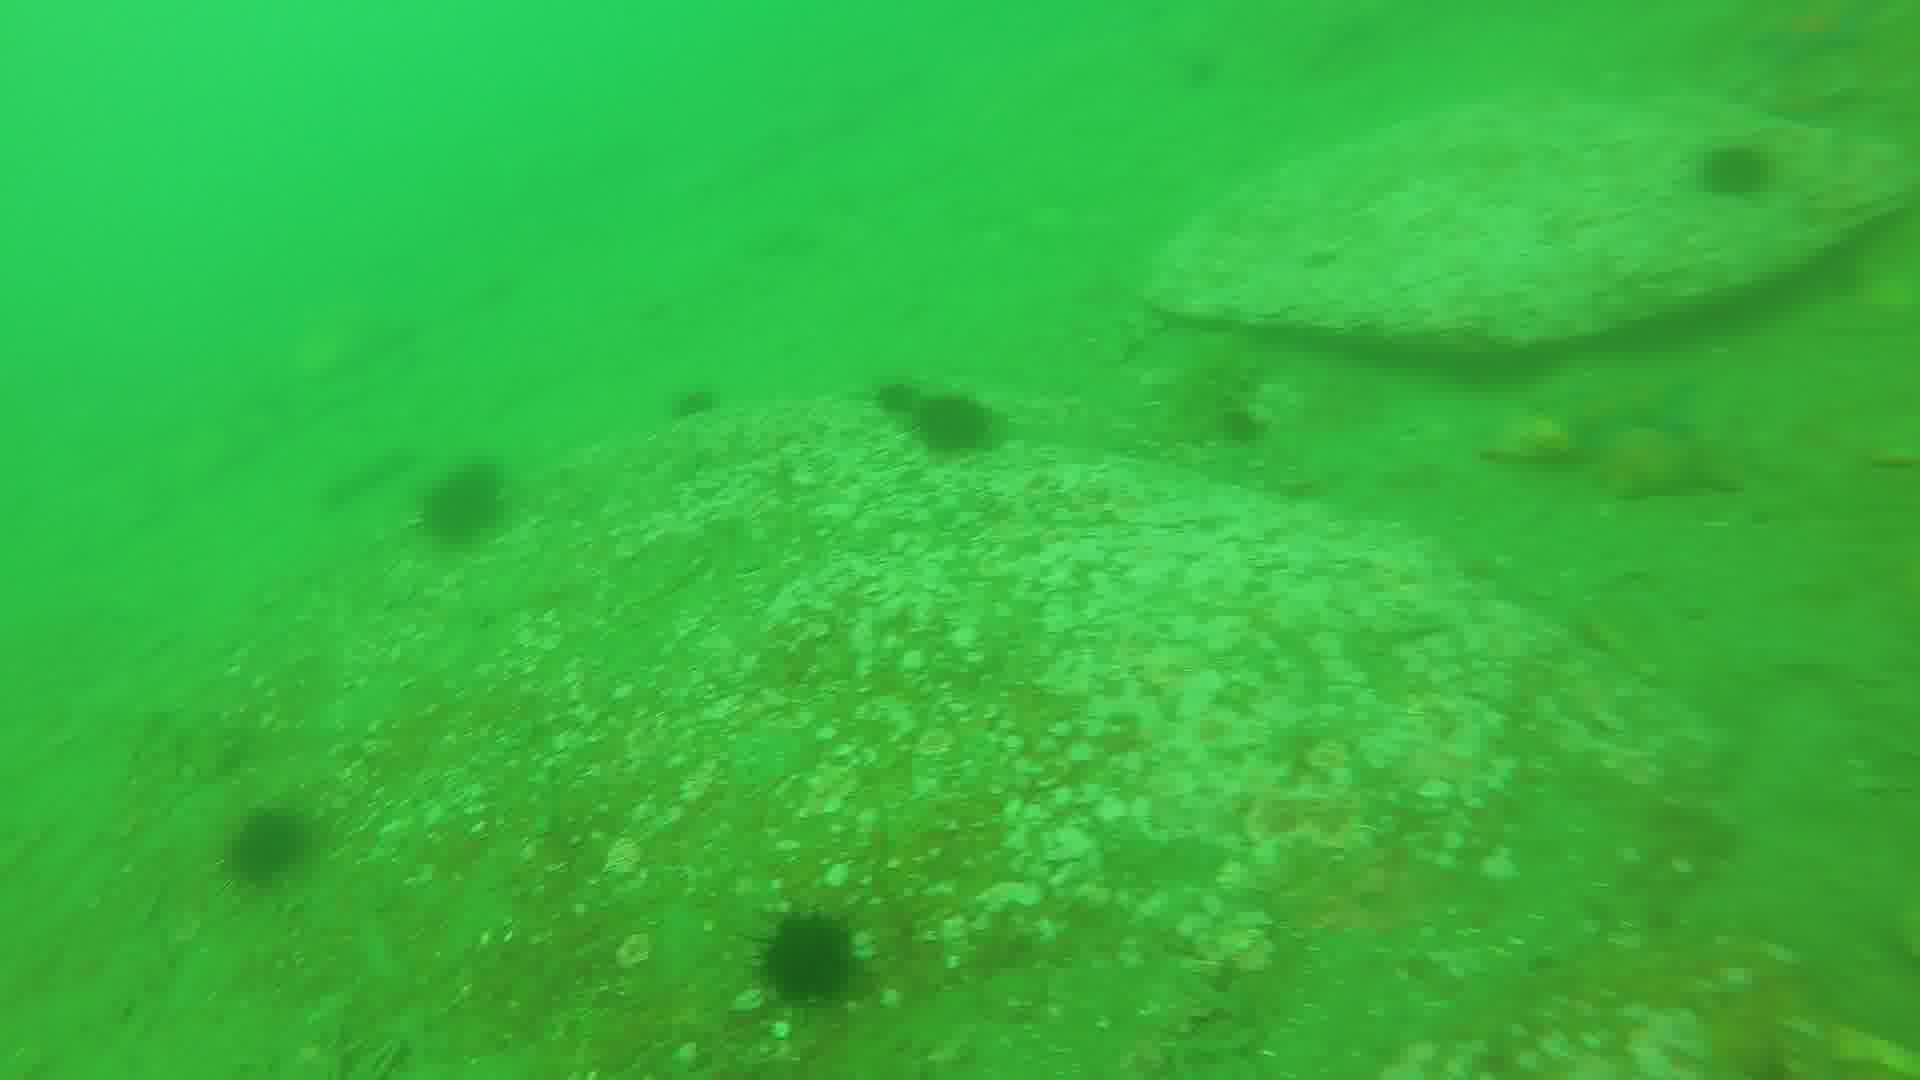echinus: (757, 905, 864, 997), (426, 455, 520, 550), (218, 804, 315, 887), (909, 393, 1014, 462), (1704, 144, 1778, 198), (673, 388, 731, 421), (876, 381, 927, 415)
